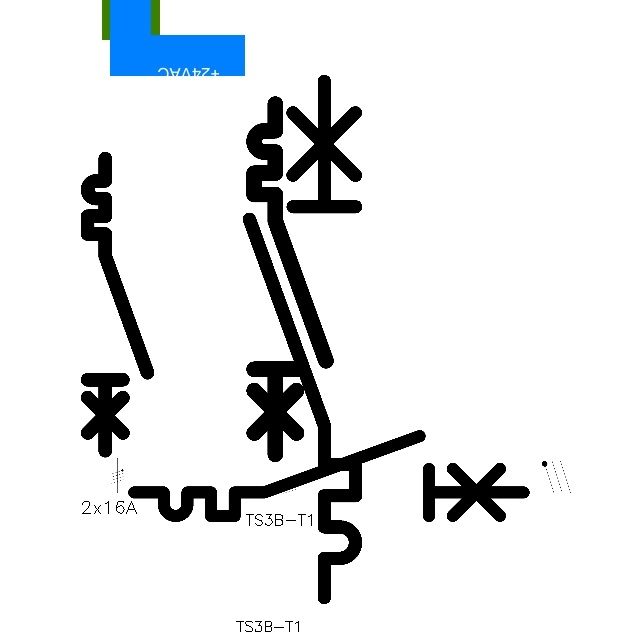interruptor_termomagnetico: (236, 68, 369, 611), (124, 426, 533, 526), (245, 95, 335, 463), (80, 151, 155, 458)
